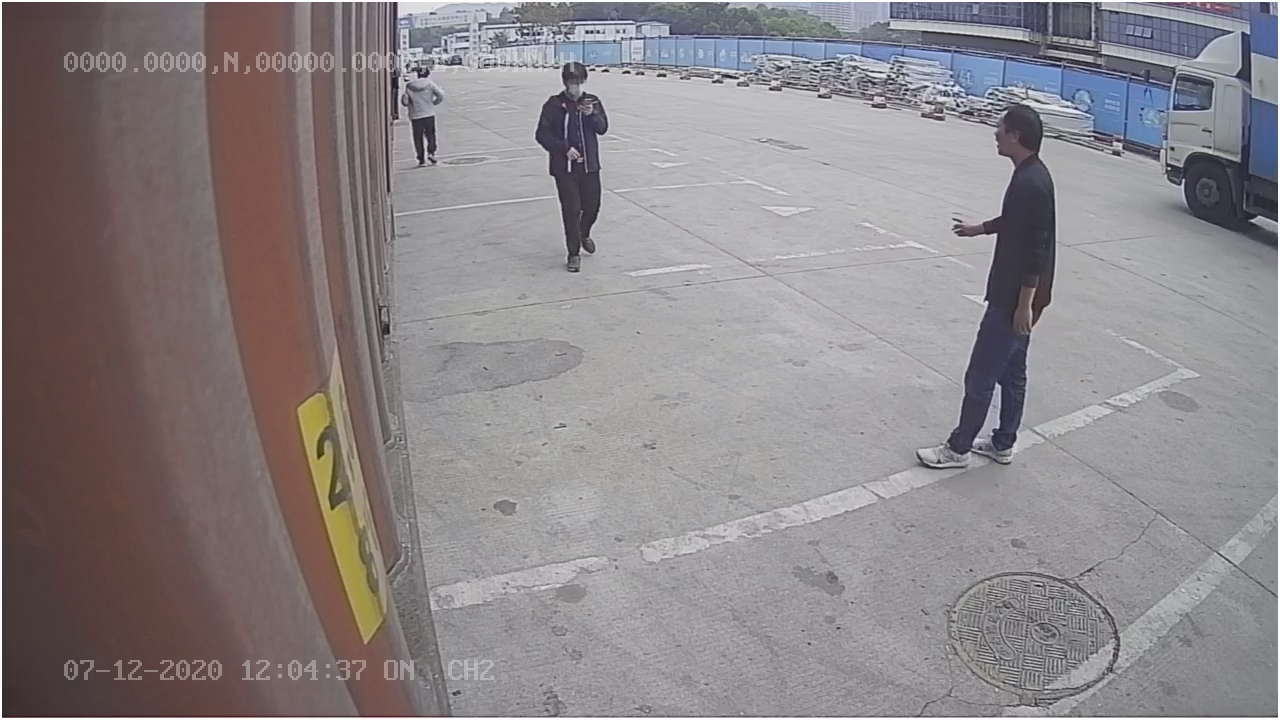person: (915, 103, 1060, 473), (532, 59, 618, 277)
